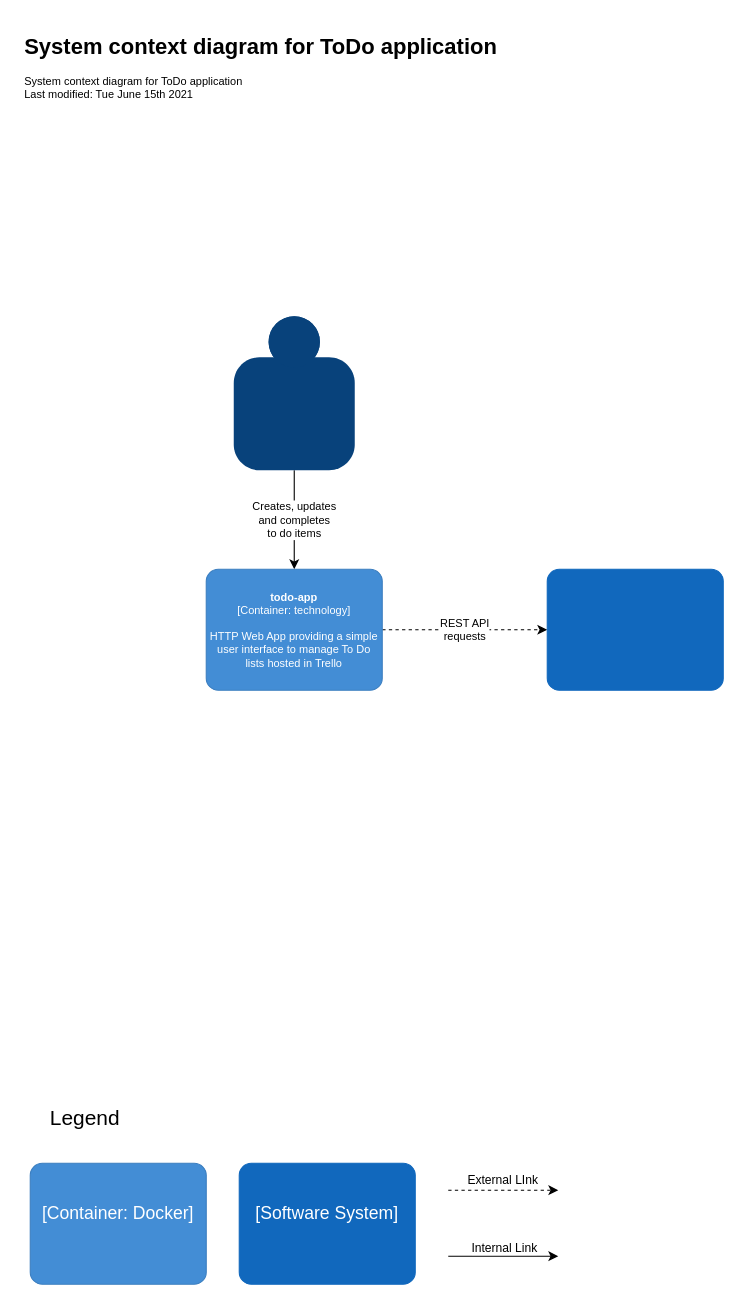
Some shapes in this 743 by 1304 pixel diagram are drawn without their labels. Here are the shapes that lost their labels. From the top down, the box of each, then its label:
(233, 316, 354, 470): 'To Do' User [Person] A user with a To Do list they wish to manage
(546, 568, 723, 690): trello [Software System] Trello Internet board hosting site
